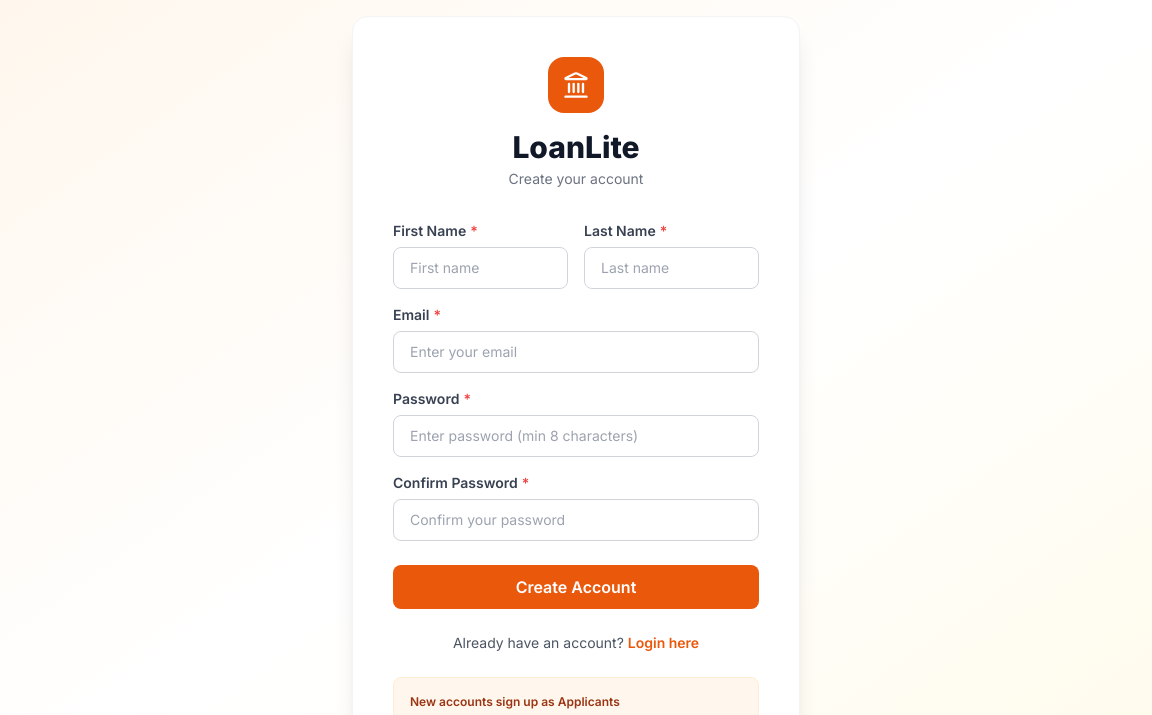
Signup — validation › rejects a password shorter than 8 characters (matches backend @Size(min = 8))
This screenshot has width=1152, height=715.
Type "Ada" into the field labelled "First Name*" at (480, 268), box [393,247,568,289]
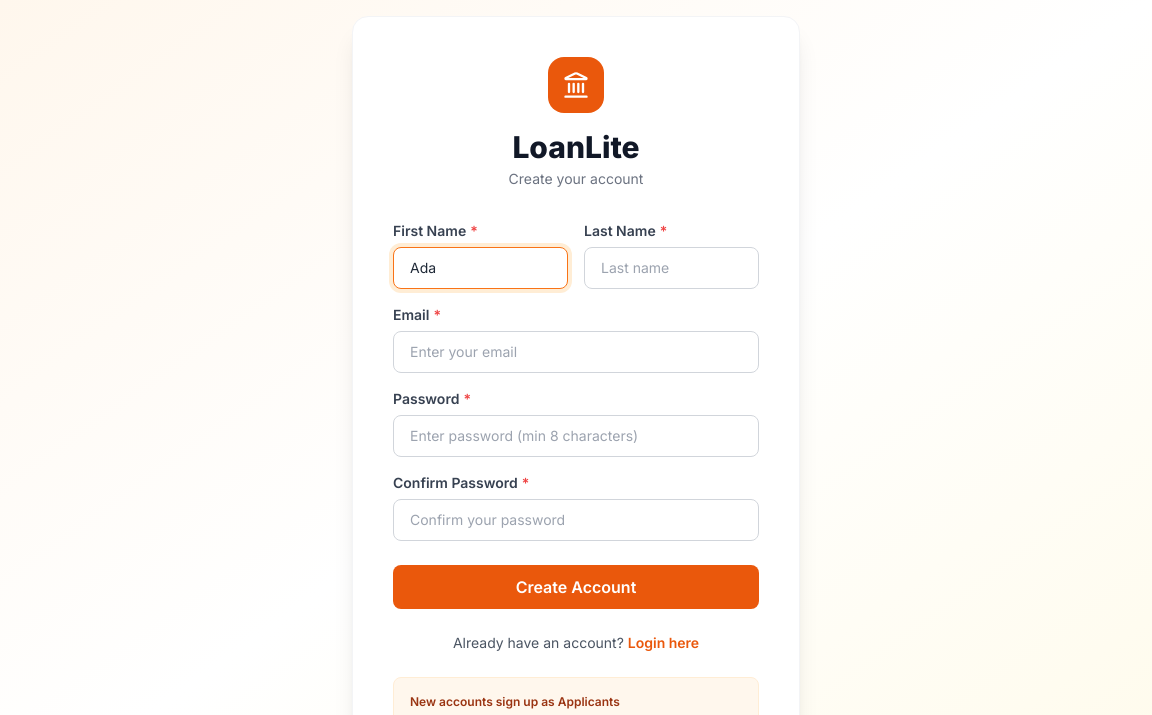
Type "Lovelace" into the field labelled "Last Name*" at (672, 268), box [584,247,759,289]
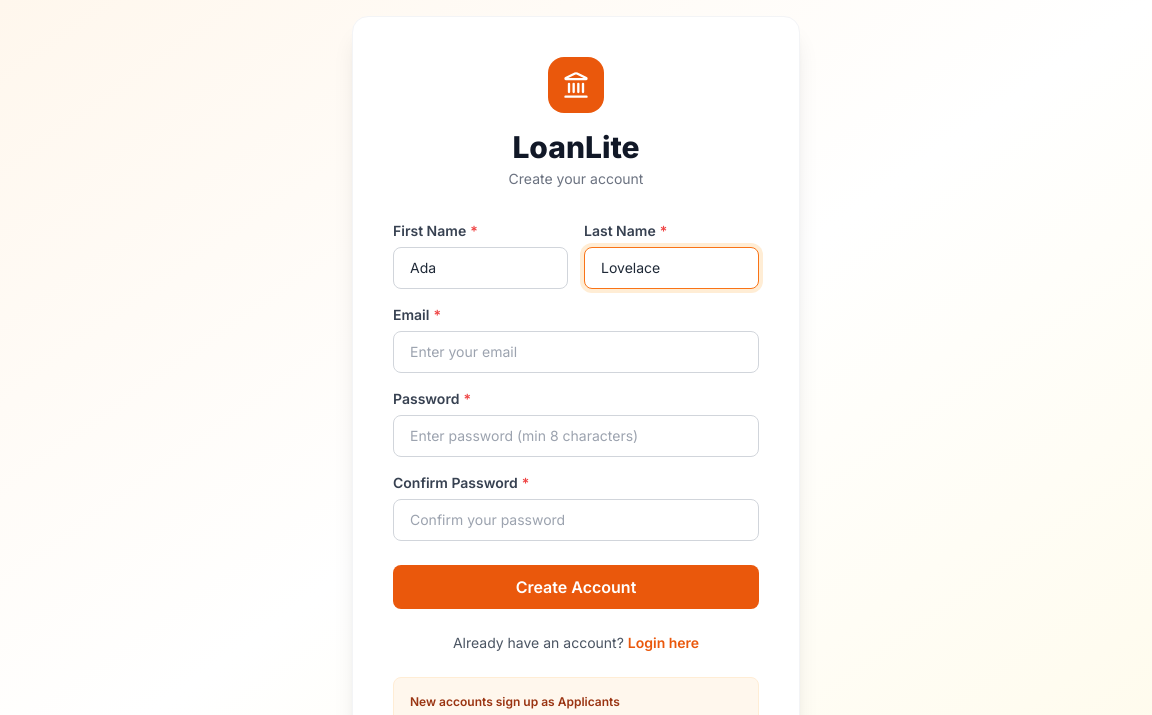
Type "ada@example.com" into the field labelled "Email*" at (576, 352), box [393,331,759,373]
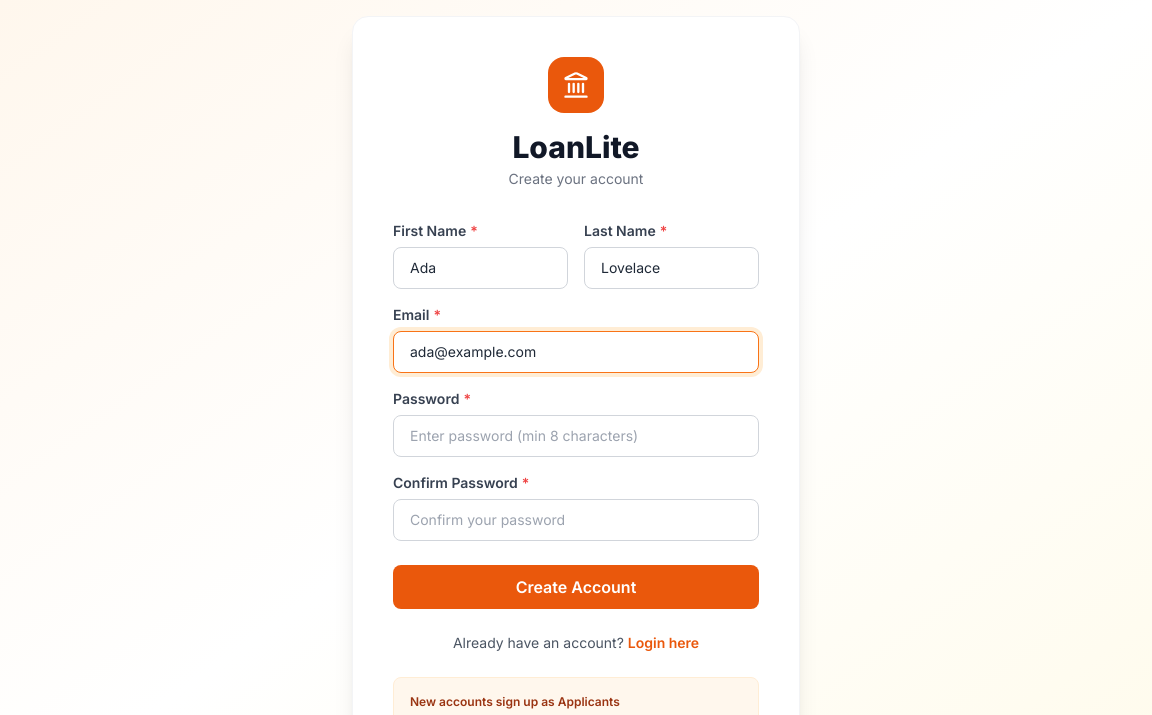
Type "short1" into the password field labelled "Password*" at (576, 436), box [393,415,759,457]
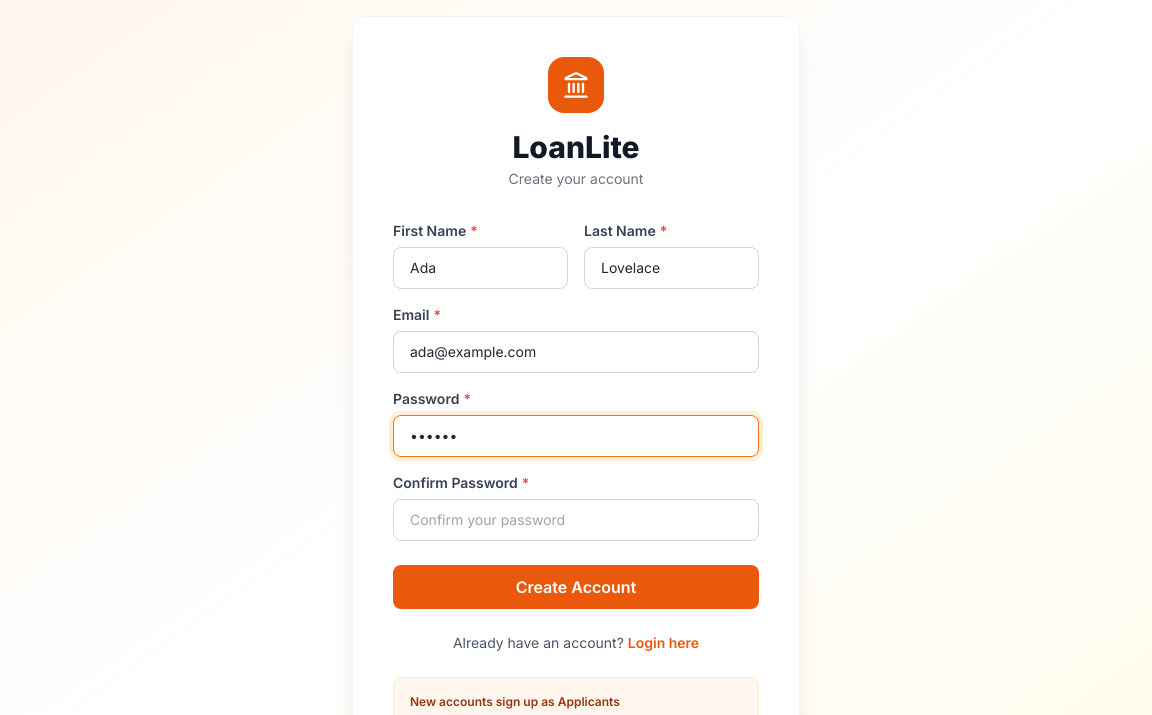
Type "short1" into the password field labelled "Confirm Password*" at (576, 520), box [393,499,759,541]
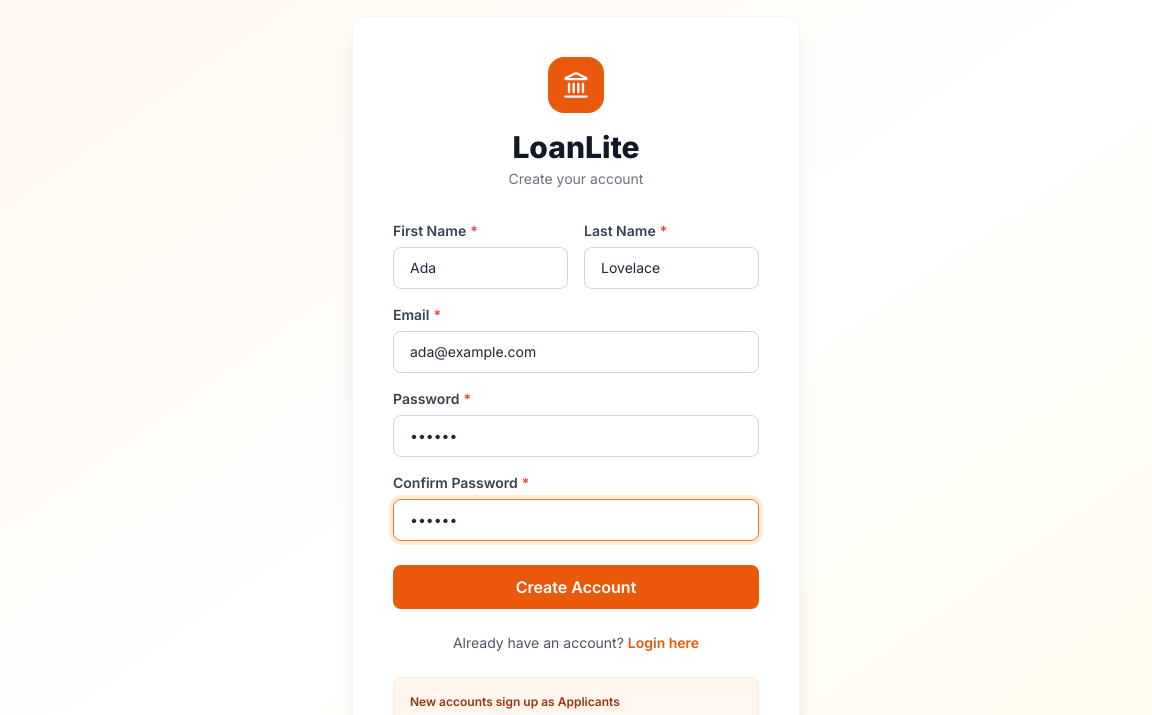
Click the button "Create Account" at (576, 587), box [393,565,759,609]
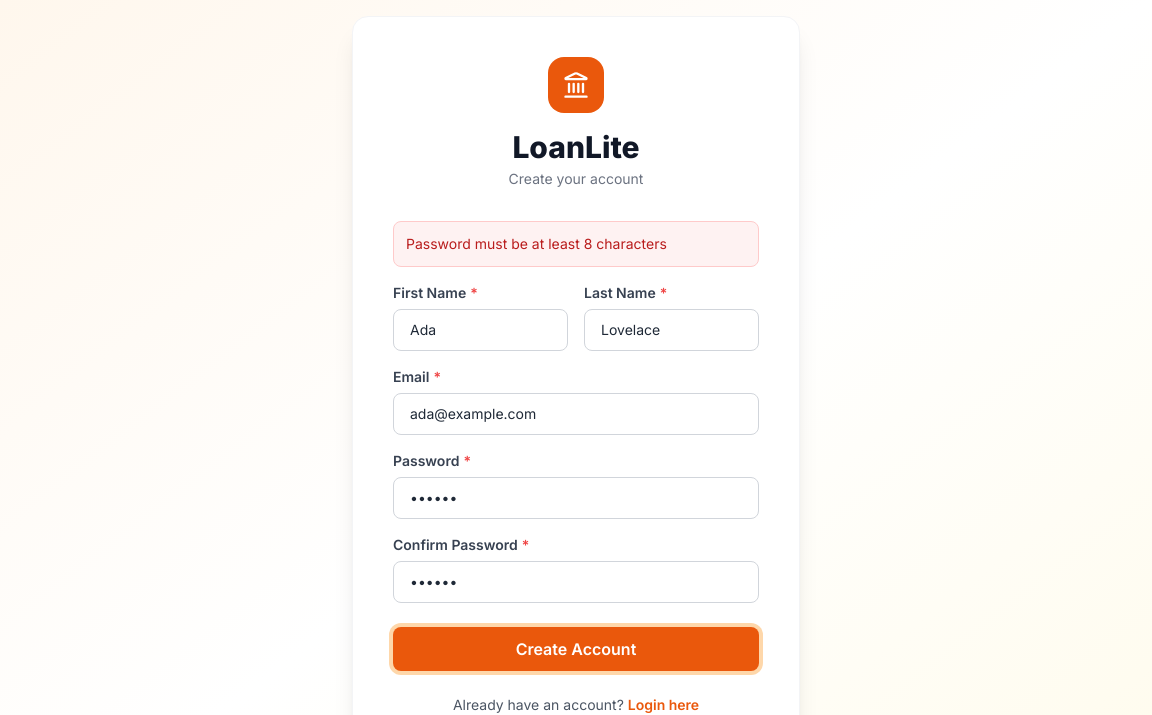
Check: the text "Password must be at least 8 characters" is shown, box [393,221,759,267]
